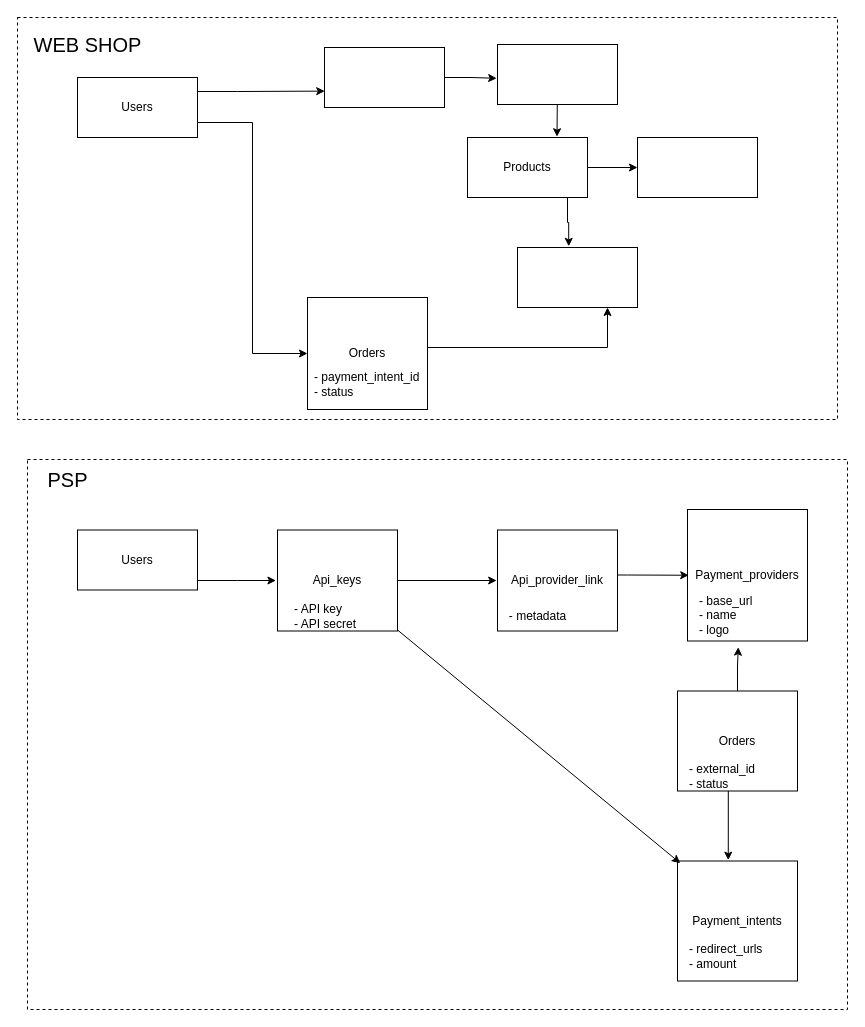
Image size: 865x1027. Some labels were removed from this diagram. The centre of each missing label's shape, as x and y in pixels:
"Cart" goes at point 384,77.
"Cart_item" goes at point 557,74.
"Order_products" goes at point 577,277.
"Product_categories" goes at point 697,167.
